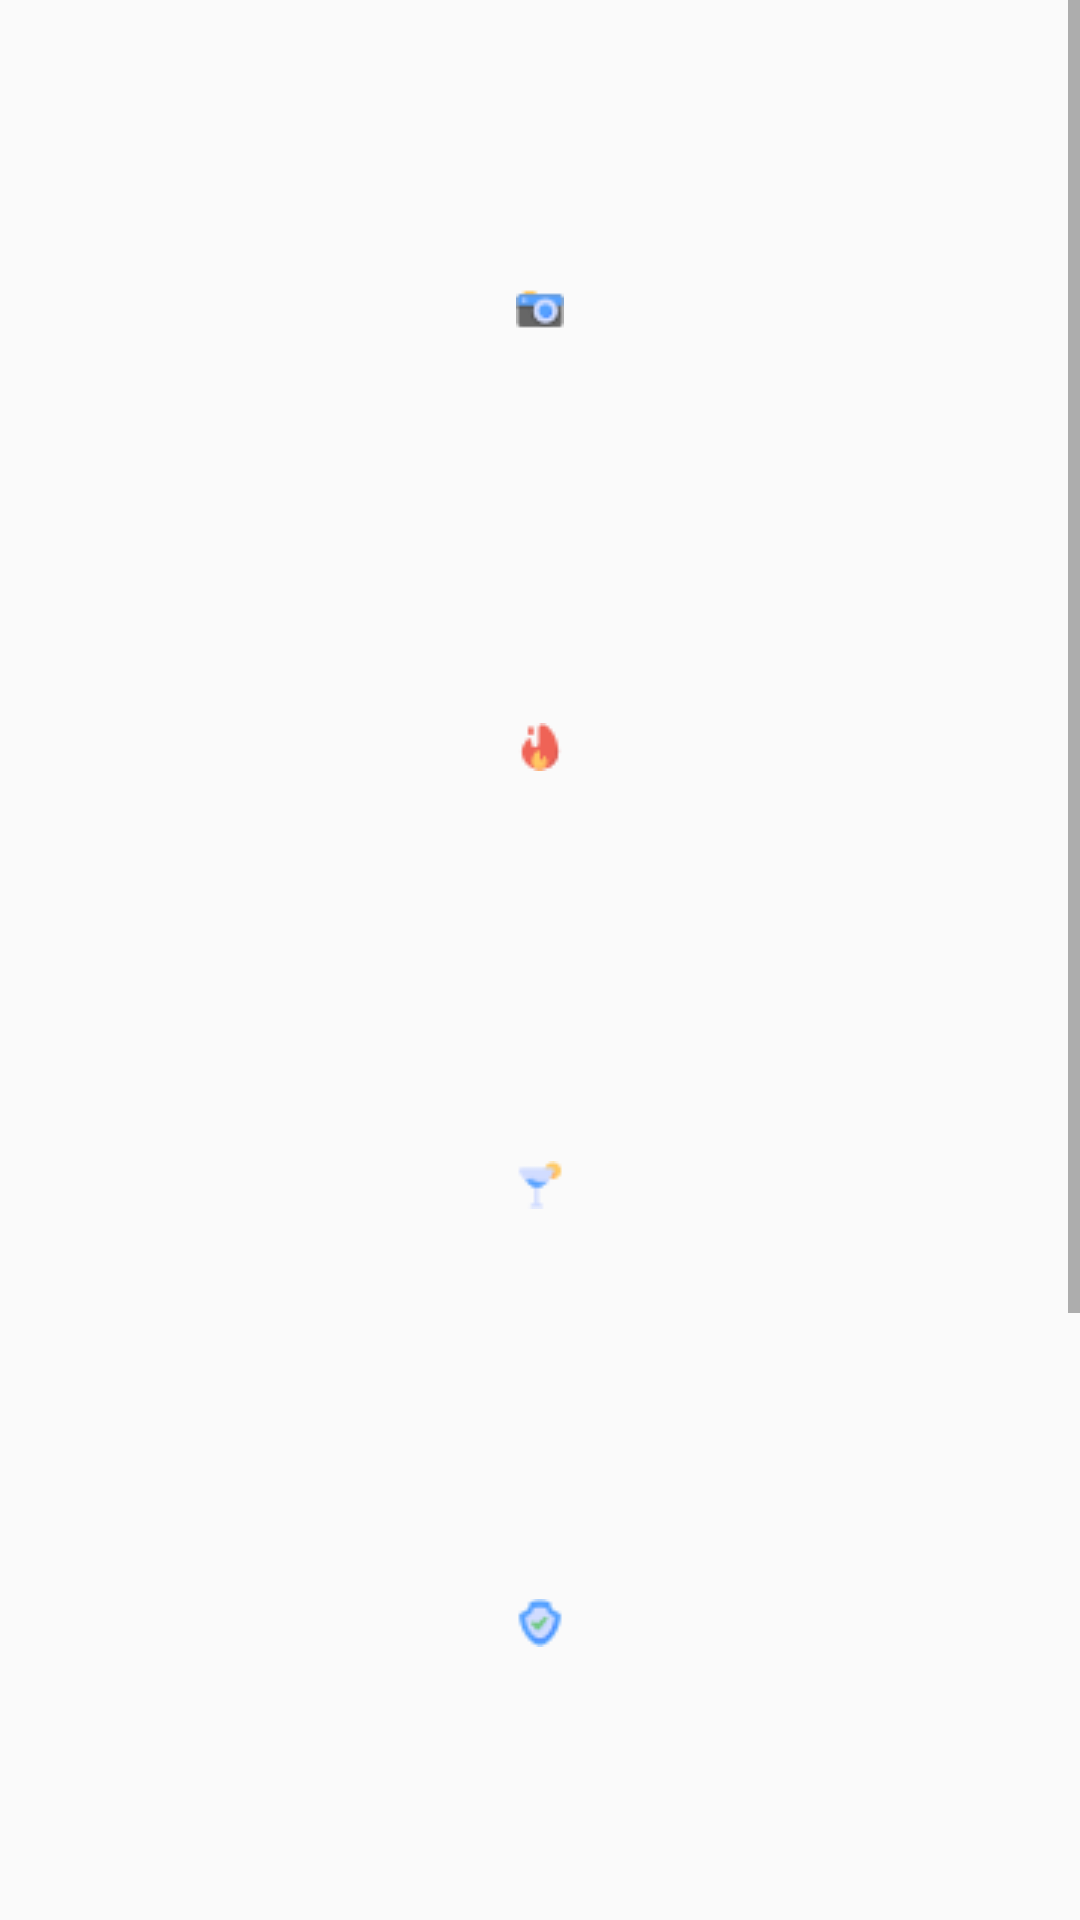

Where to tap for icons on this 1080x1920 app screen, as (x,y):
camera: (540,309)
cocktail: (540,1184)
hot: (540,747)
shield: (540,1623)
